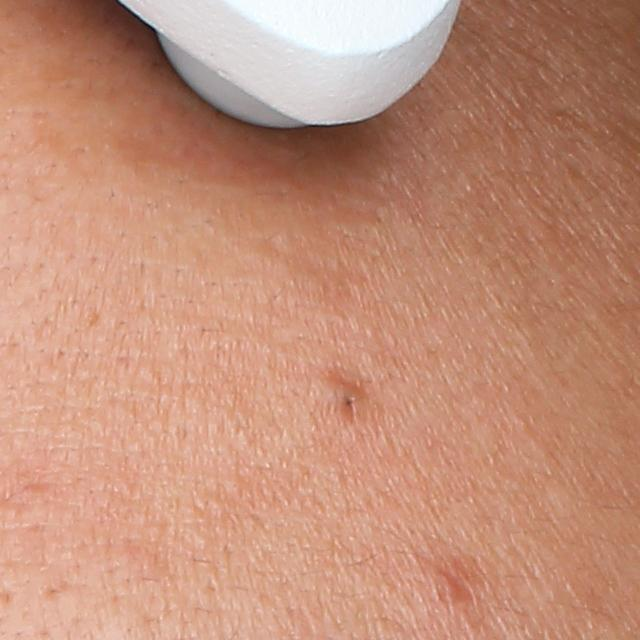comedo: (319, 378, 374, 419)
